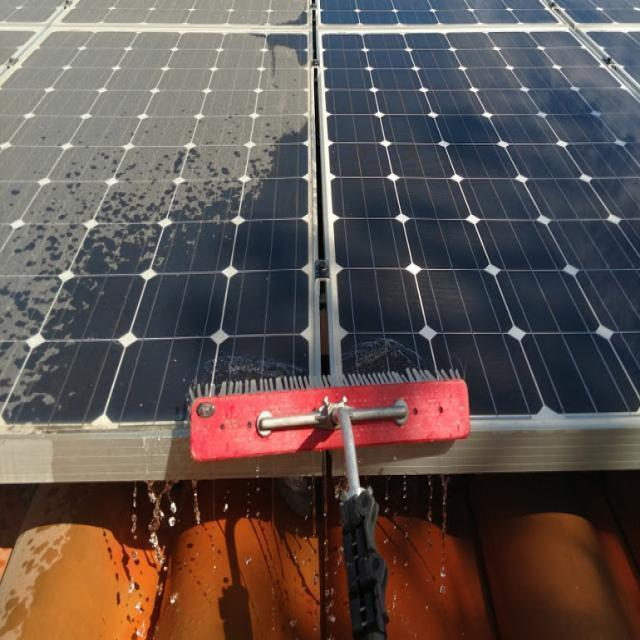Surface Contaminant: (0, 28, 310, 423), (0, 27, 37, 67)
